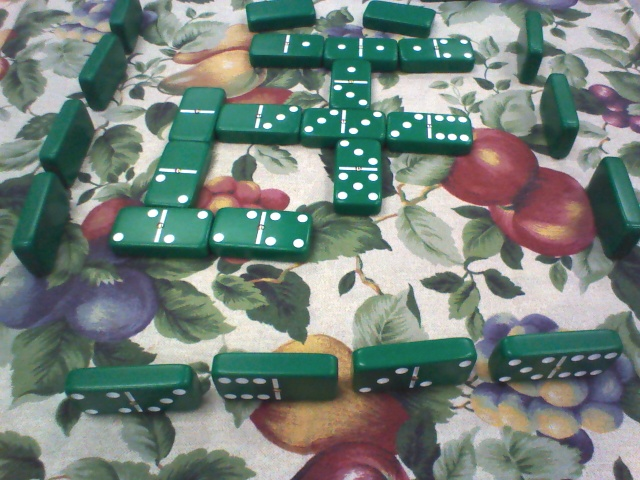A: (360, 1, 438, 36), (246, 3, 319, 31)
B: (117, 201, 215, 267), (211, 206, 323, 263), (387, 110, 478, 155), (216, 101, 302, 147), (302, 104, 389, 148), (333, 137, 384, 212), (159, 133, 206, 211), (324, 32, 399, 73), (249, 31, 322, 70), (168, 88, 222, 140), (400, 36, 478, 70), (330, 61, 377, 109)
C: (13, 172, 75, 273), (36, 97, 100, 182), (78, 32, 130, 106), (111, 1, 148, 53)
D: (584, 154, 640, 262), (539, 71, 580, 163), (511, 11, 549, 83)
E: (64, 363, 200, 420), (211, 350, 343, 407), (489, 336, 627, 388), (350, 344, 478, 393)
